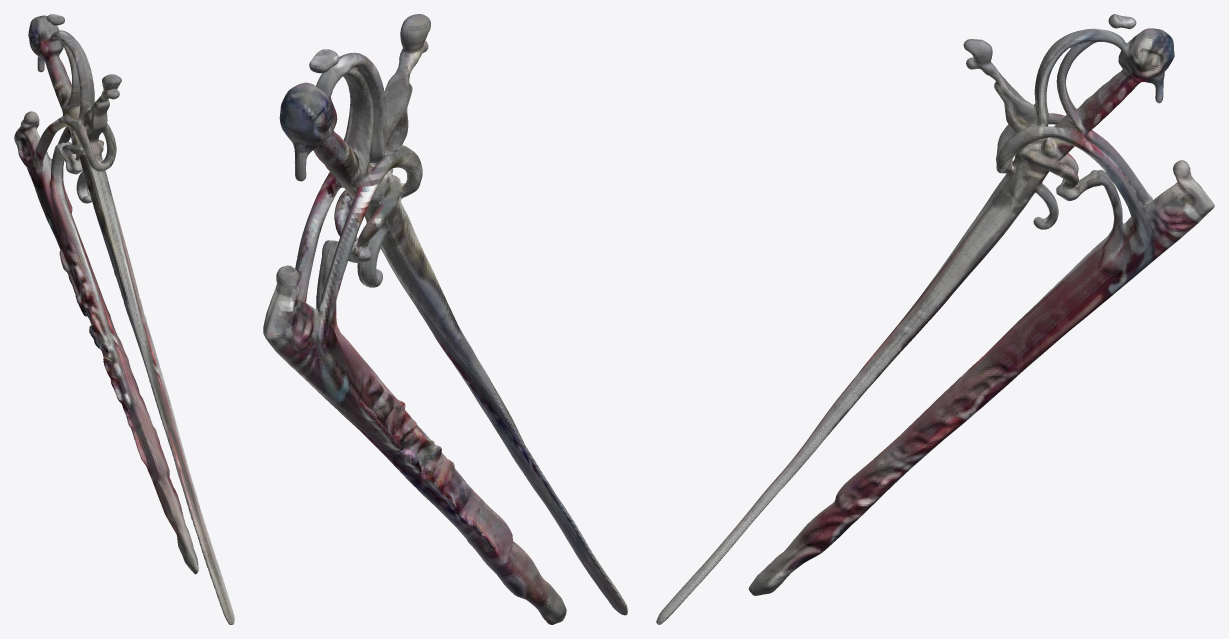
File: black_needle_ceremonial_sword.glb
The picture shows the model from 3 angles, left to right: view 1: azimuth 30°, elevation 25°; view 2: azimuth 150°, elevation 25°; view 3: azimuth 270°, elevation 25°; orthographic projection. The views are drawn at different scales.
Bounding box in the file's own units: 0.1388 × 1.99 × 1.65.
Materials: 1 (1 with a texture image).
